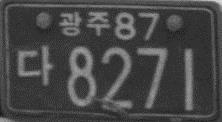1: (183, 45, 196, 112)
2: (101, 45, 134, 111)
7: (134, 44, 169, 111), (138, 11, 160, 41)
8: (66, 45, 97, 109), (114, 11, 136, 40)
광주_O: (58, 8, 111, 39)
다: (16, 43, 53, 86)
